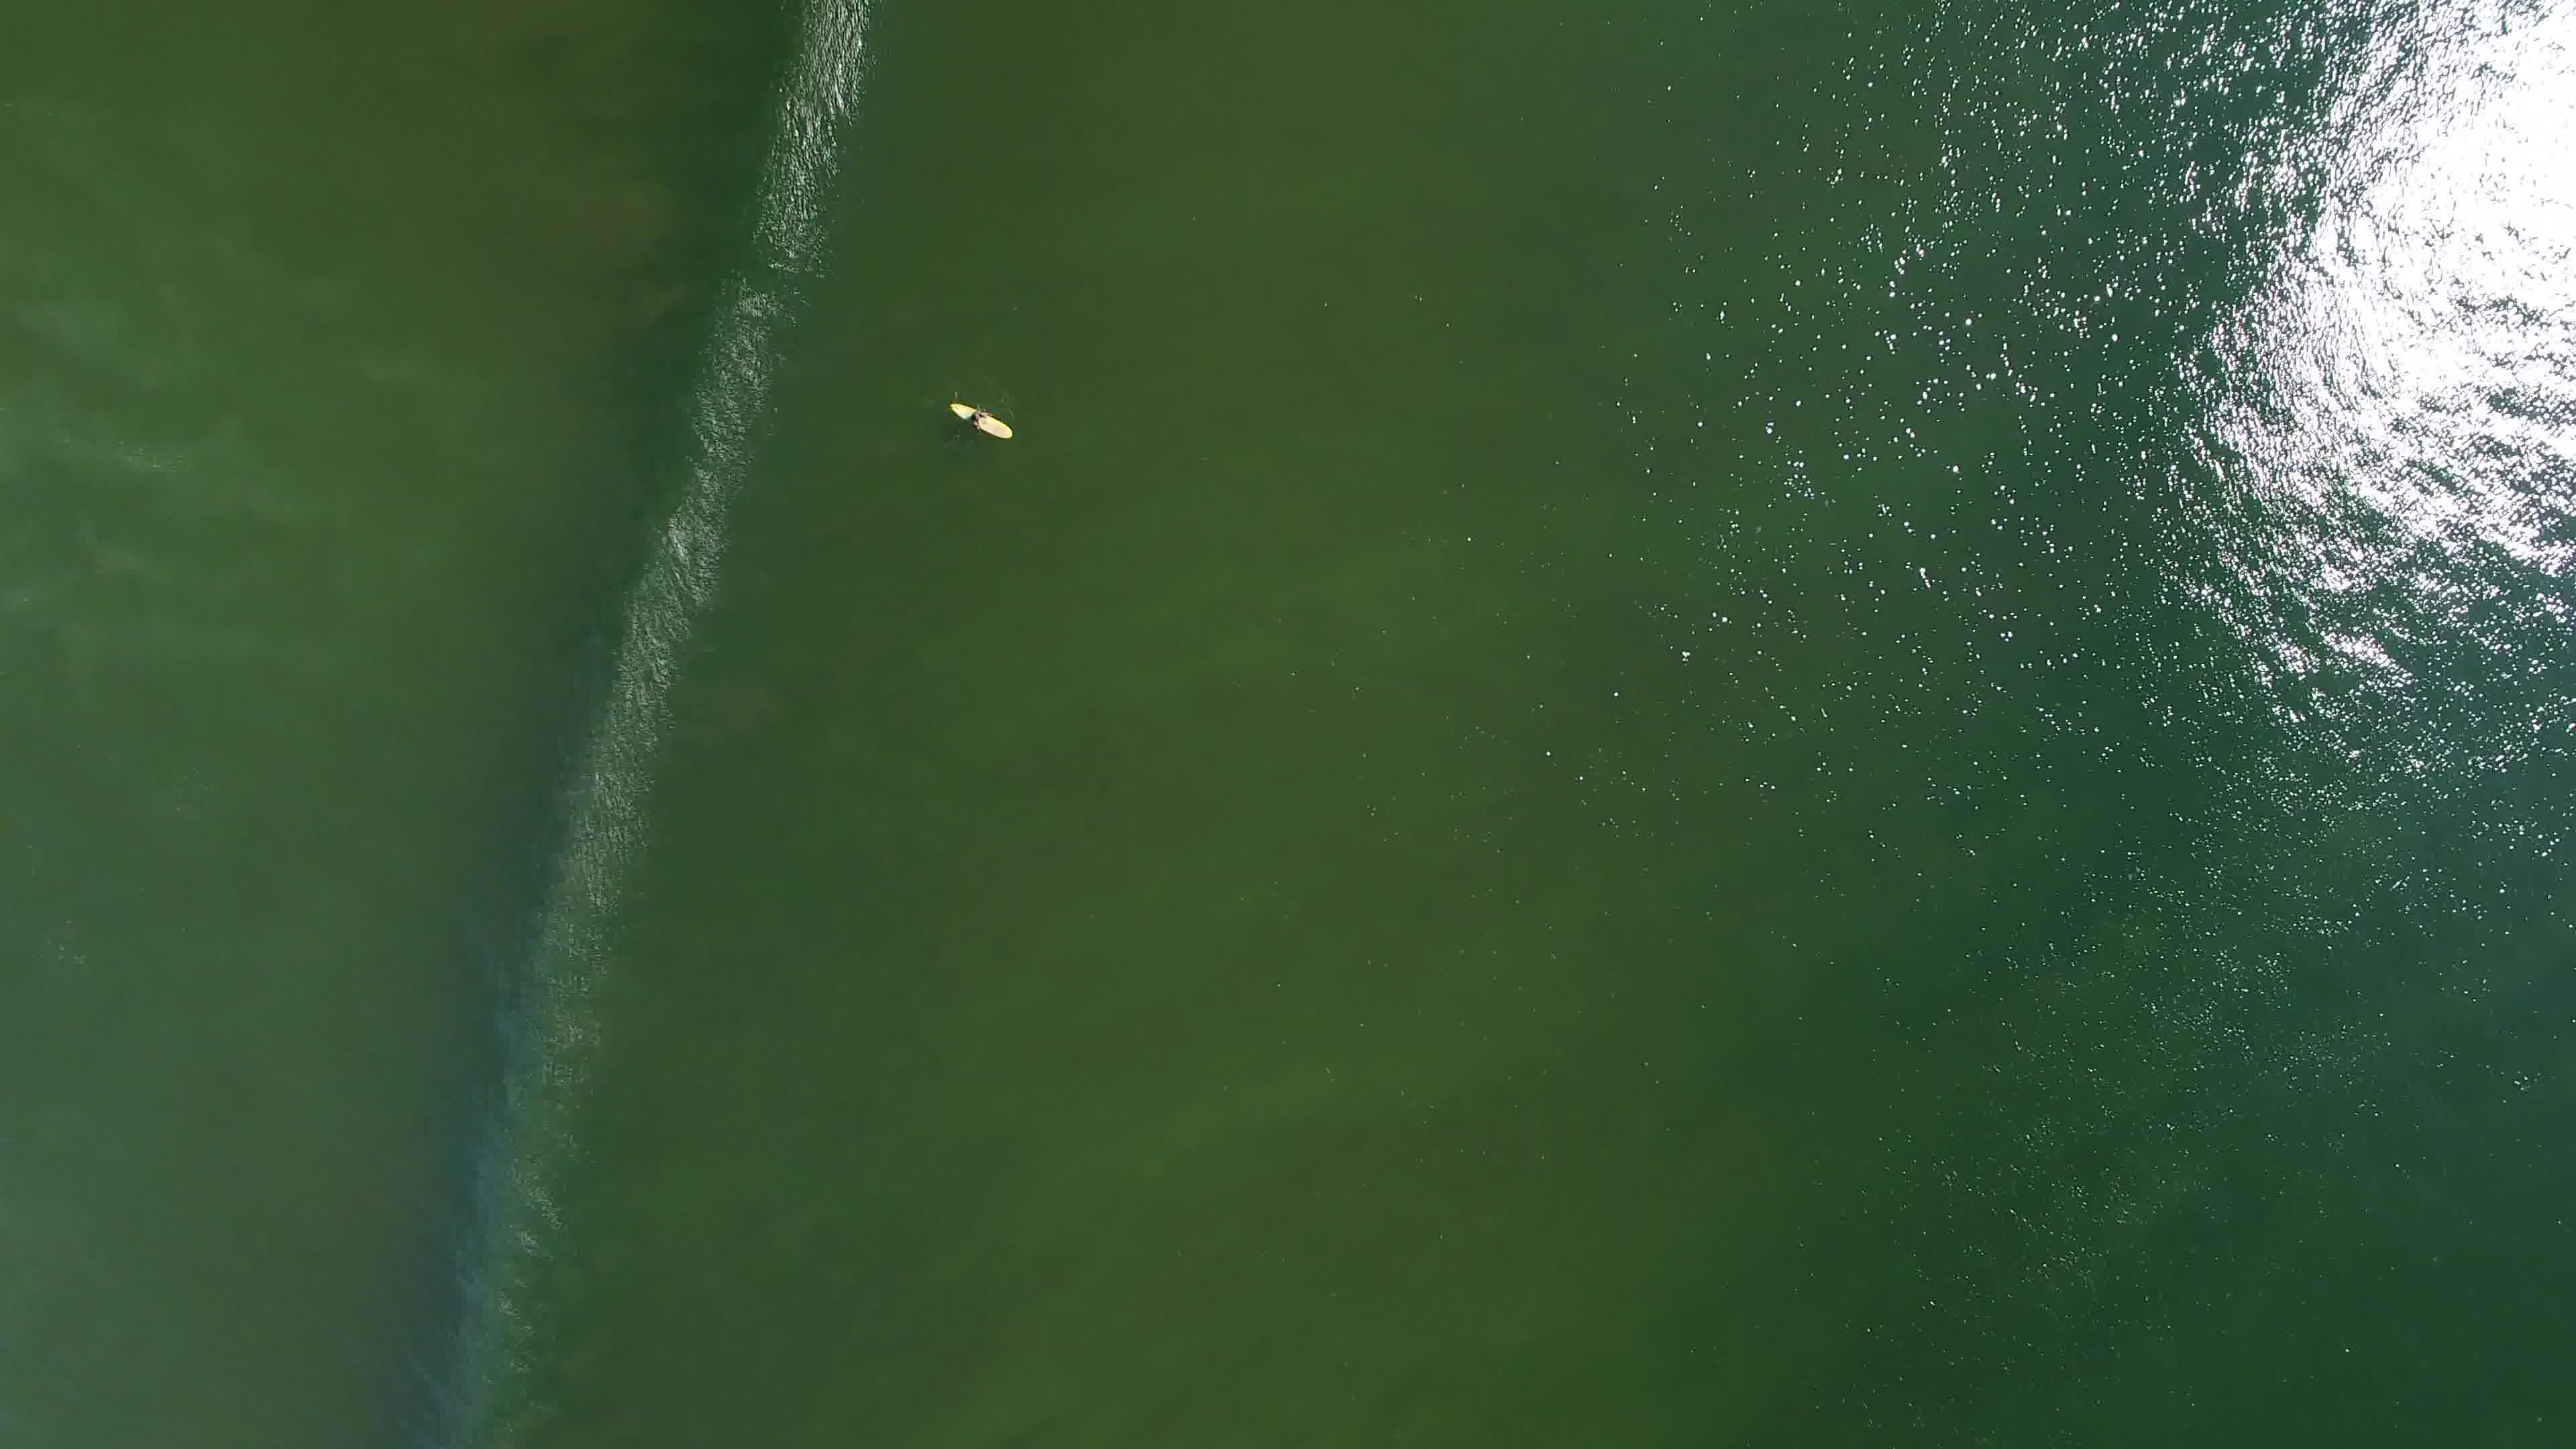surfer: (936, 391, 1026, 449)
